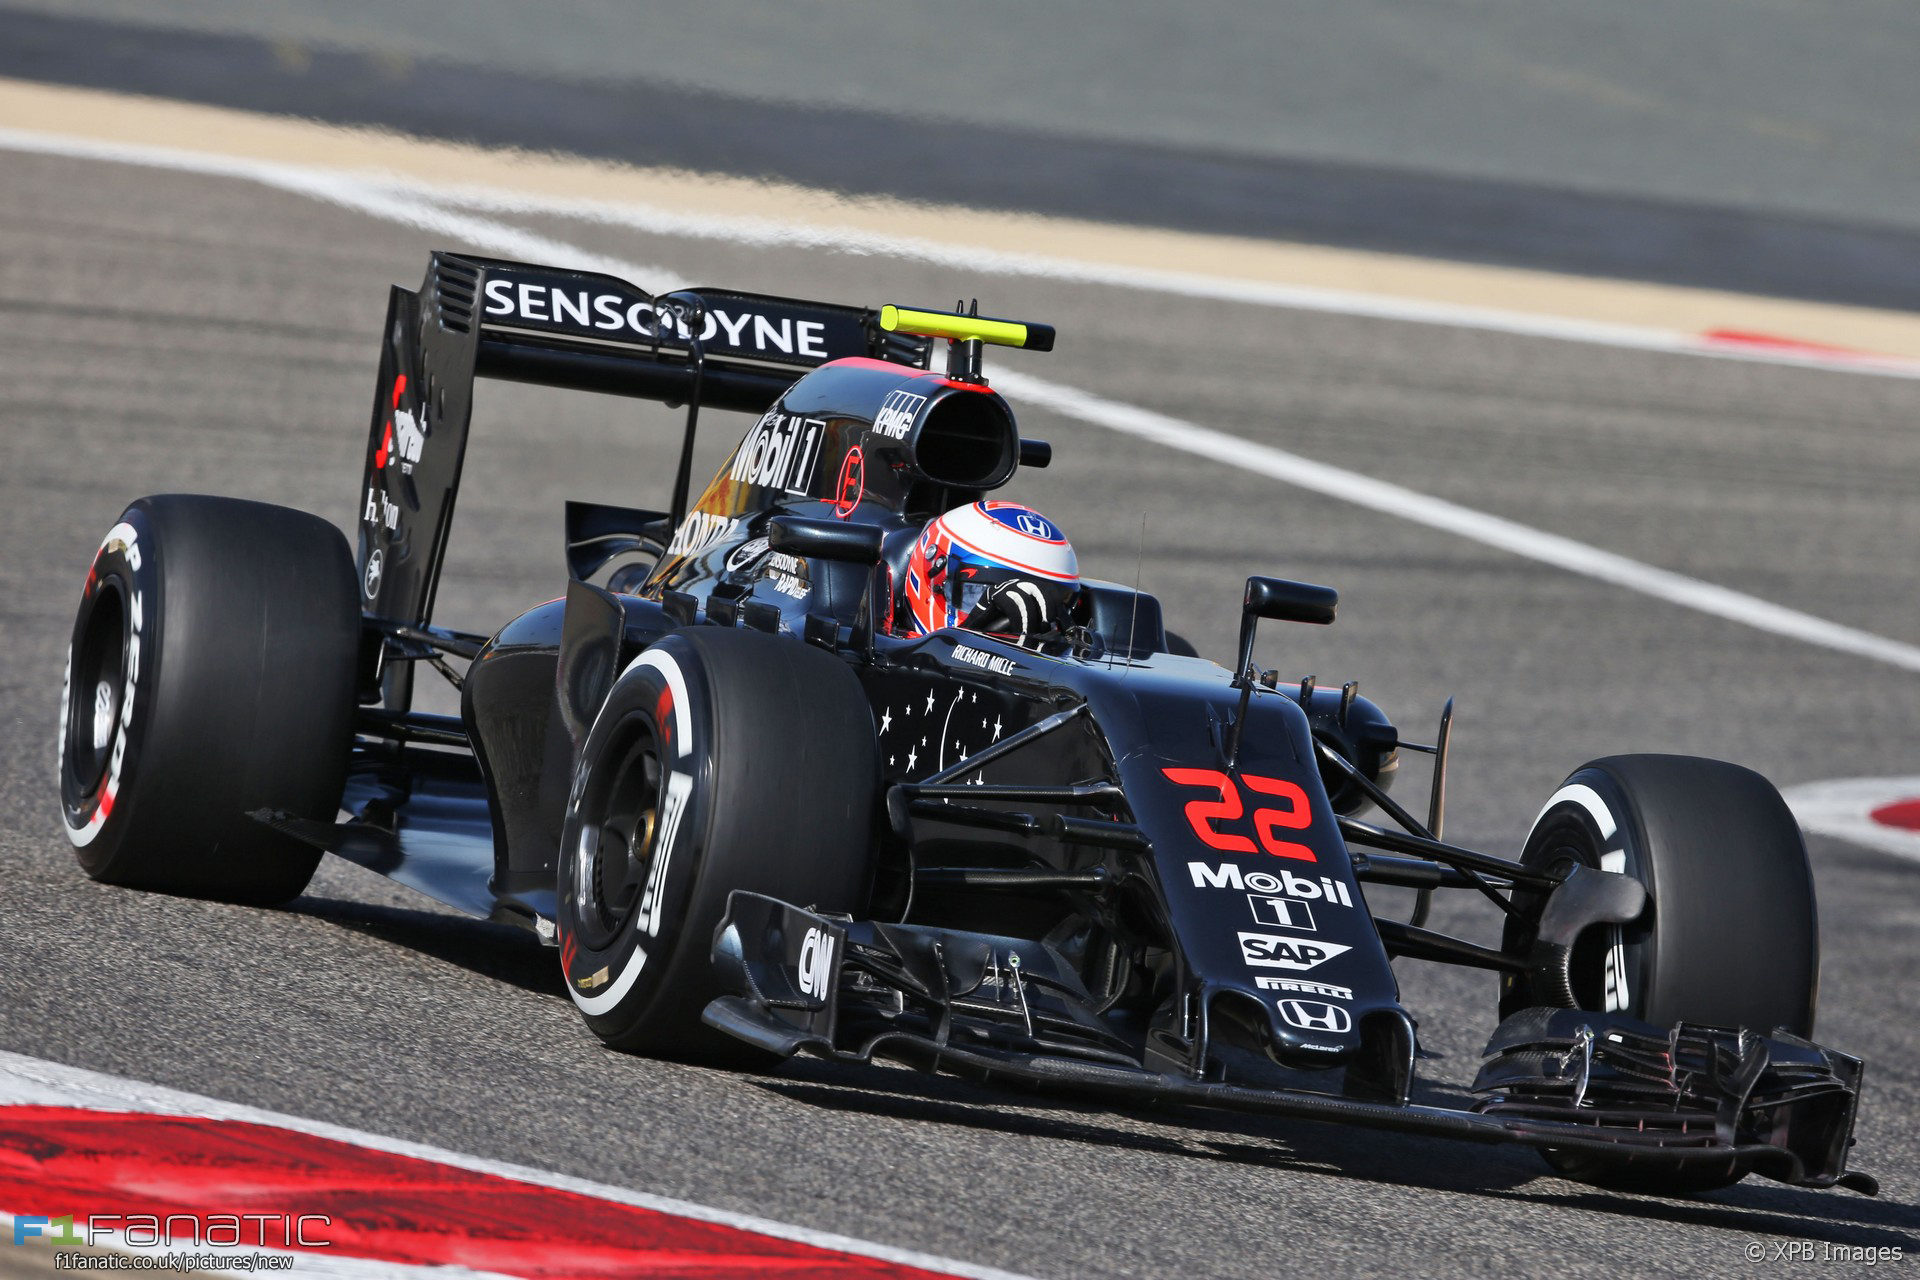F1 Car: (41, 221, 1890, 1216)
